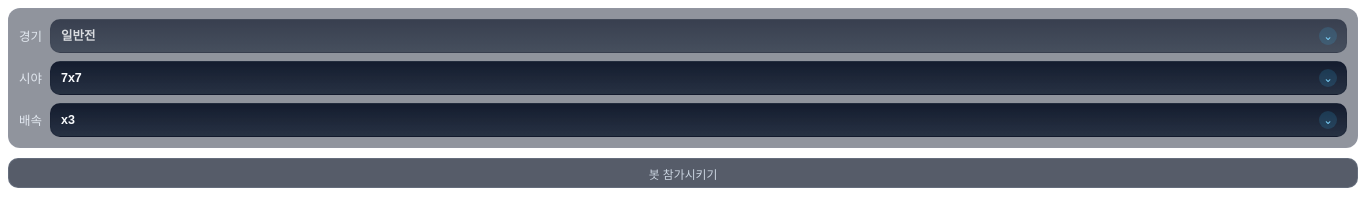
Test: HostControls › shows and changes the bot speed selector only in bot race rooms
Expected: the element with test id "bot-speed-control-row" shows "배속", [19,114,42,128]
Select "x6" in the dropdown with id "bot-speed-multiplier". click: (698, 120)
box: [50,103,1347,137]
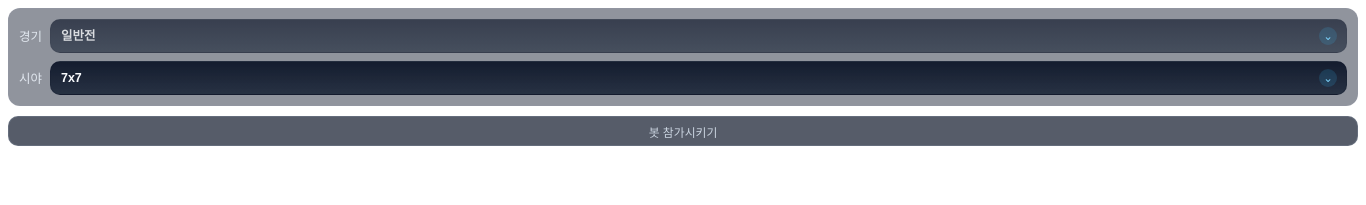
Now the element with test id "bot-speed-control-row" is gone
